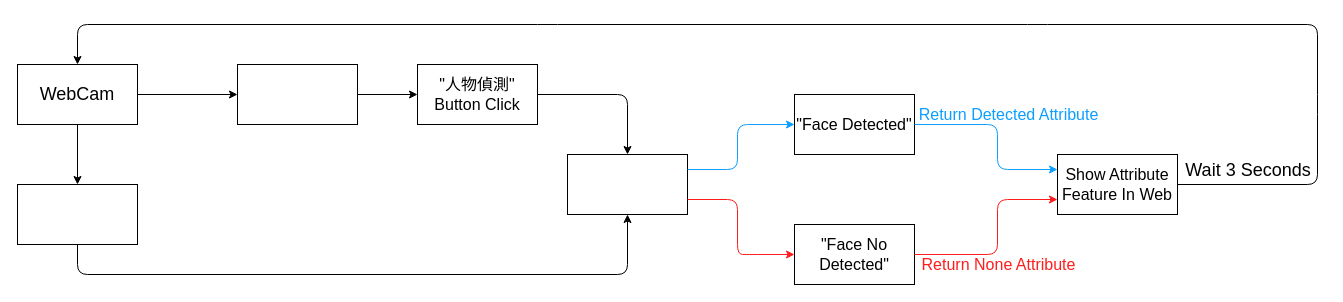
This 1343x302 diagram has some shape labels left out. Each missing label, with the box of its shape:
Generate Local Image File: (16, 184, 138, 244)
Real Time Image Show In Web: (236, 64, 358, 124)
Windows Azure Face Recognition API: (566, 154, 688, 214)
